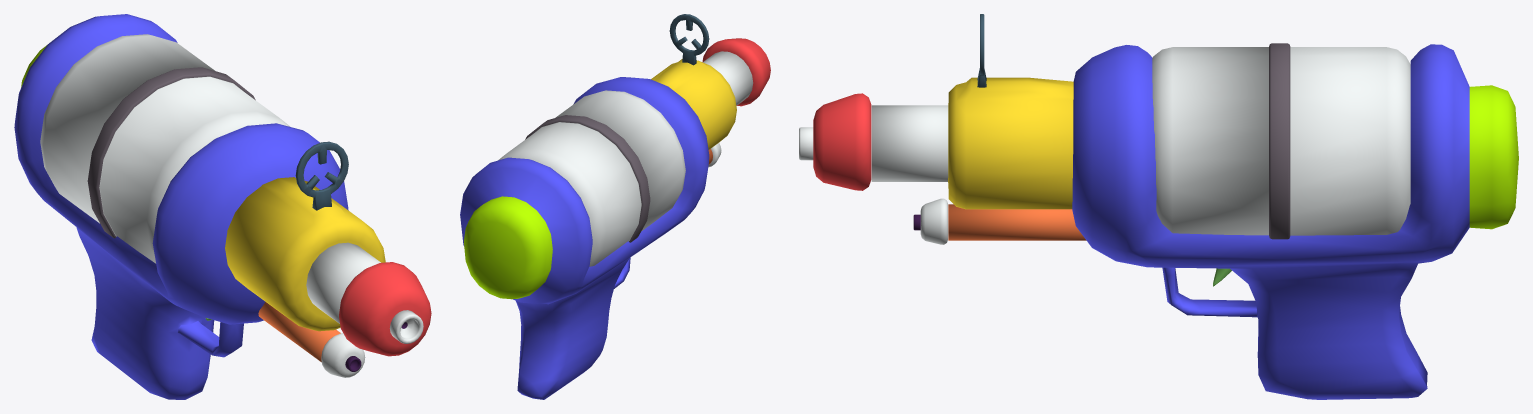
The model's file is Watergun8.fbx.
The picture shows the model from 3 angles, left to right: view 1: azimuth 30°, elevation 25°; view 2: azimuth 150°, elevation 25°; view 3: azimuth 270°, elevation 25°; orthographic projection. The views are drawn at different scales.
Parts seen in each view (by area): view 1: Watergun8; view 2: Watergun8; view 3: Watergun8.
Boxes of the visible parts, <box> form: Watergun8: <box>14,14,431,399</box>; Watergun8: <box>460,14,770,399</box>; Watergun8: <box>799,14,1518,399</box>.
Size of the model in its own units: 0.1262 by 0.2322 by 0.4004.
